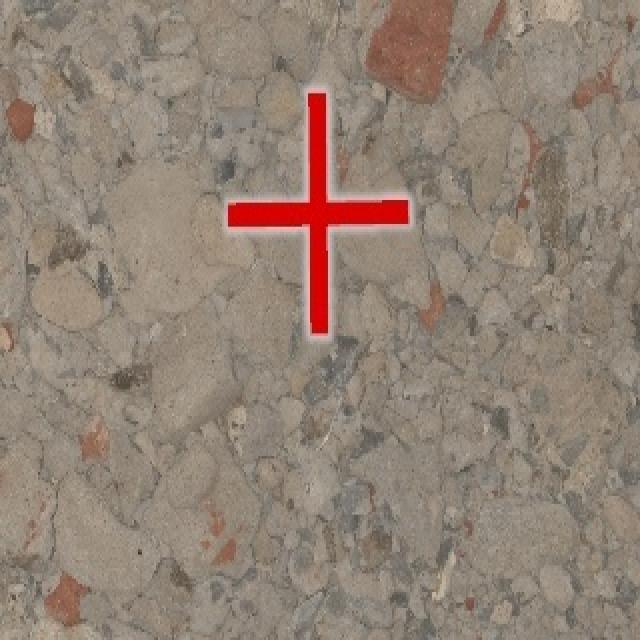x_marker: (227, 89, 409, 335)
